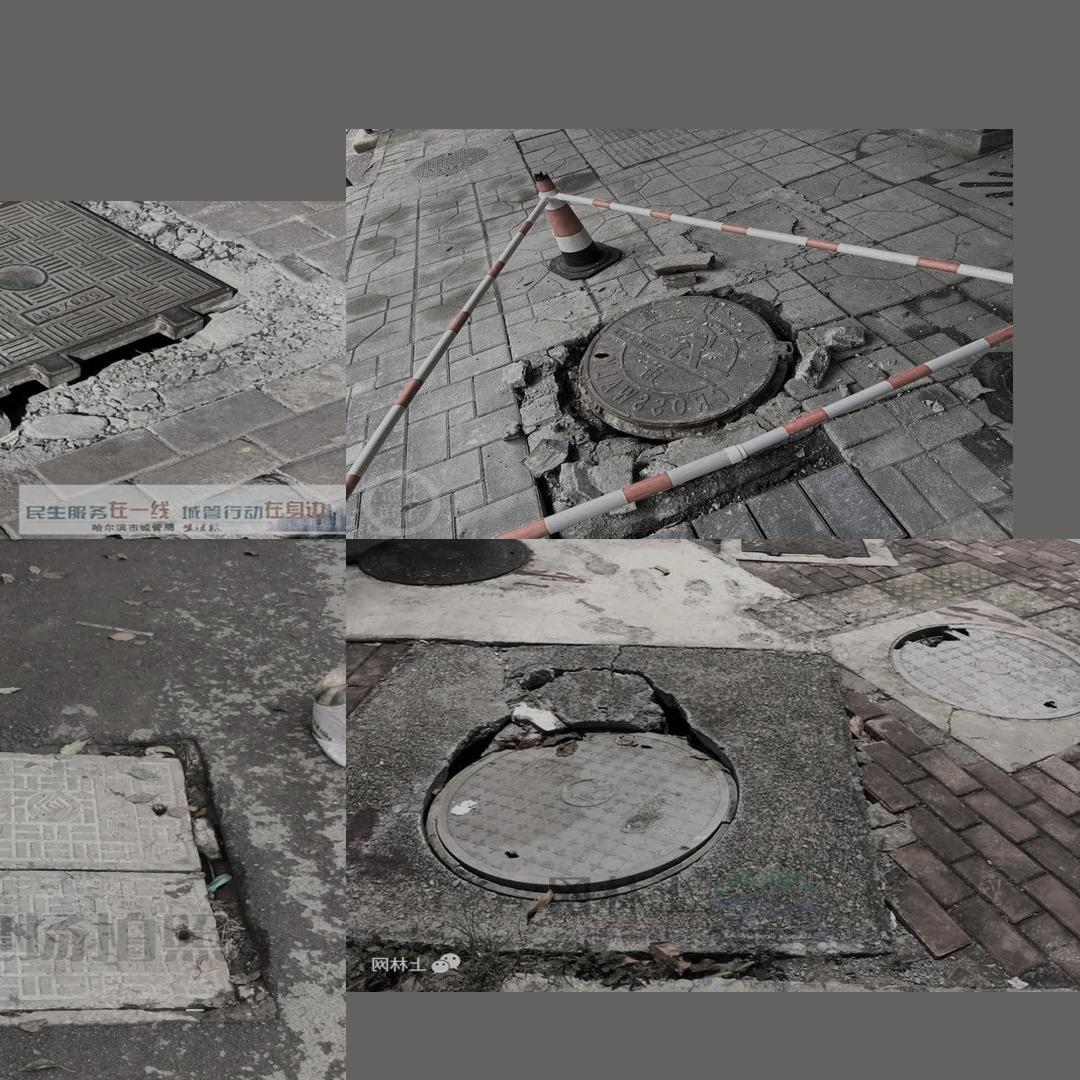circle: (349, 629, 903, 957), (0, 206, 339, 470), (522, 270, 848, 524), (0, 737, 281, 1029)
